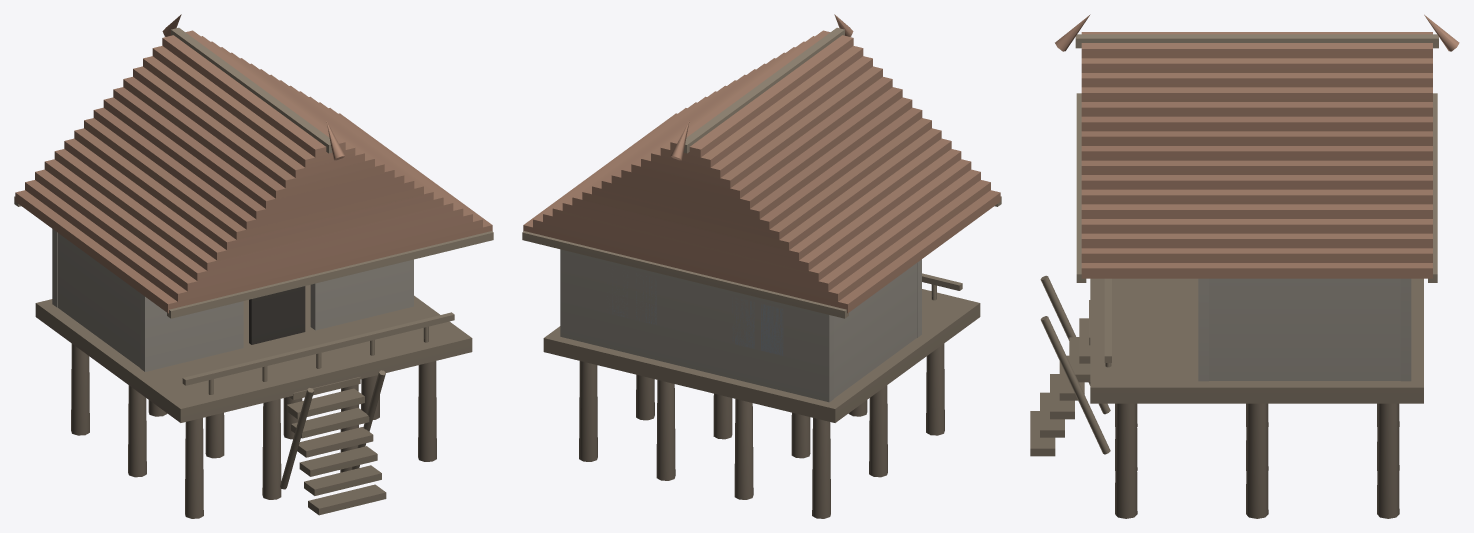
File: phteah.glb
3 views of the same model, side by side, from view 1: azimuth 30°, elevation 25°; view 2: azimuth 150°, elevation 25°; view 3: azimuth 270°, elevation 25° (orthographic). The views are drawn at different scales.
Bounding box in the file's own units: 7.24 × 8.06 × 7.21.
